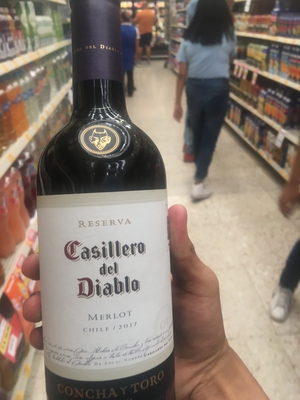casillero del diablo merlot: (30, 13, 182, 399)
